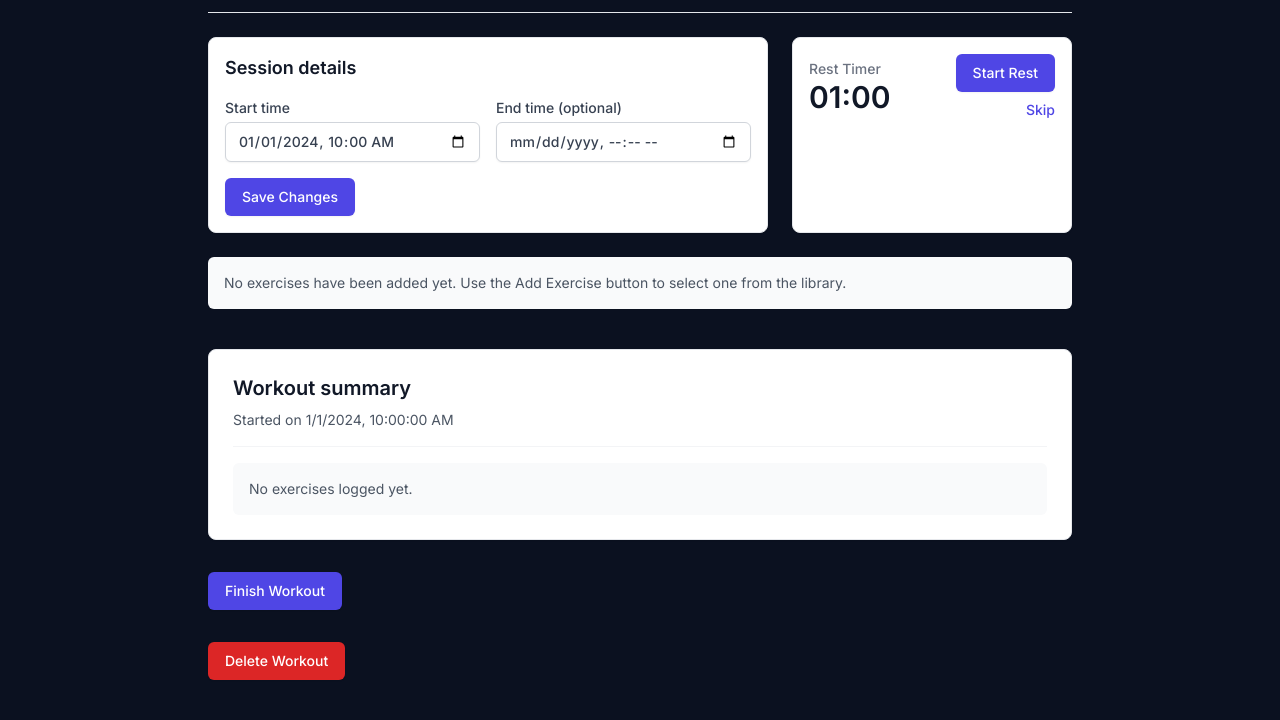
Scenario: WorkoutSessionPage › displays deletion errors in the confirmation modal
(page scrolled)
Click the button "Delete Workout" at (277, 661), box [208,642,345,680]
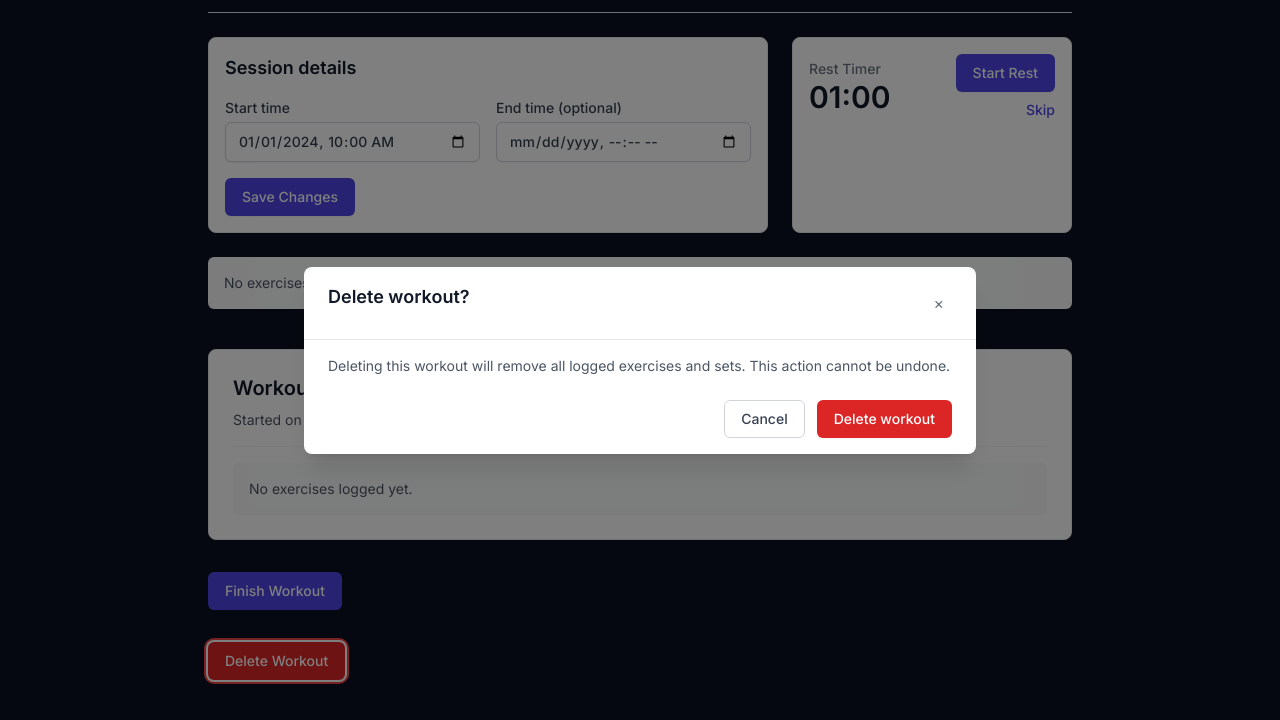
Click the button "Delete workout" at (884, 418), box [817,400,952,438]
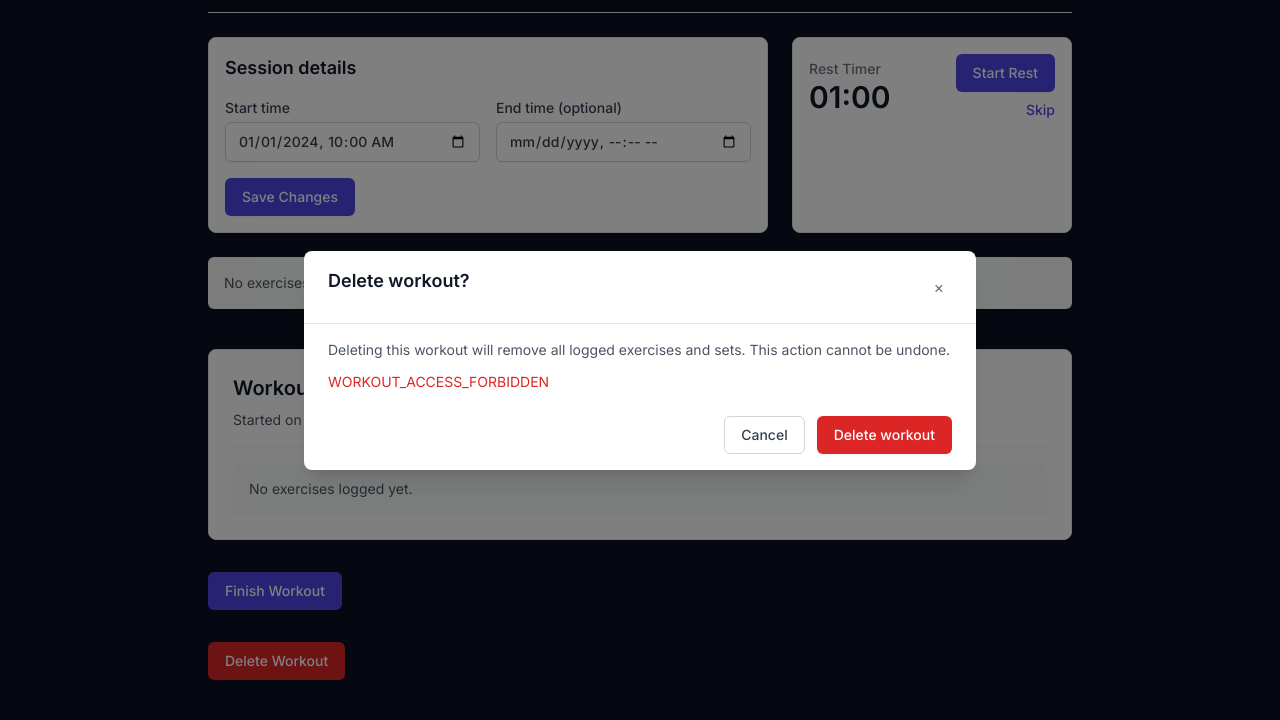
Expected: the dialog is shown
Expected: the message reads "WORKOUT_ACCESS_FORBIDDEN", [328,372,549,390]
